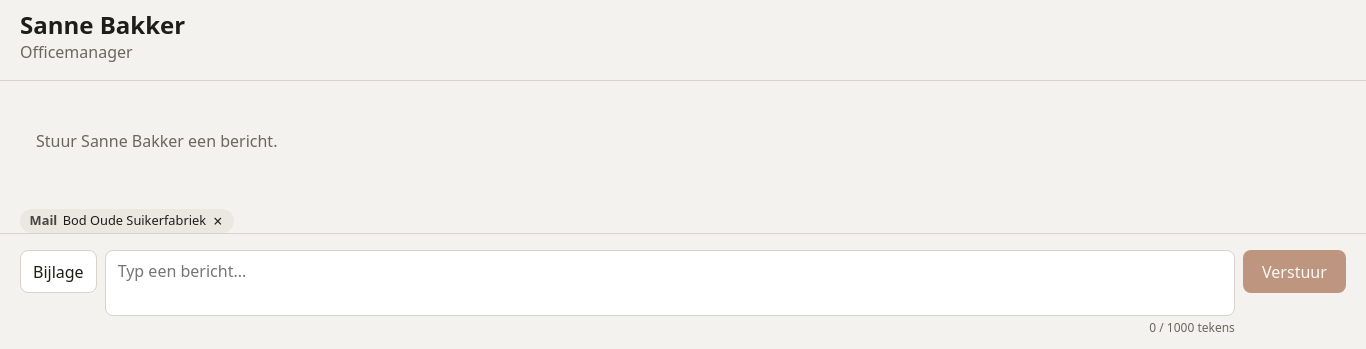
it: ChatPanel › ChatPanel_givenAttachmentAddedFromComputer_expectShownInDraftAndRemovable
This screenshot has width=1366, height=349.
Step 1. Click the button named "Verwijder bijlage Bod Oude Suikerfabriek" → click(218, 221), box [212,213,224,229]
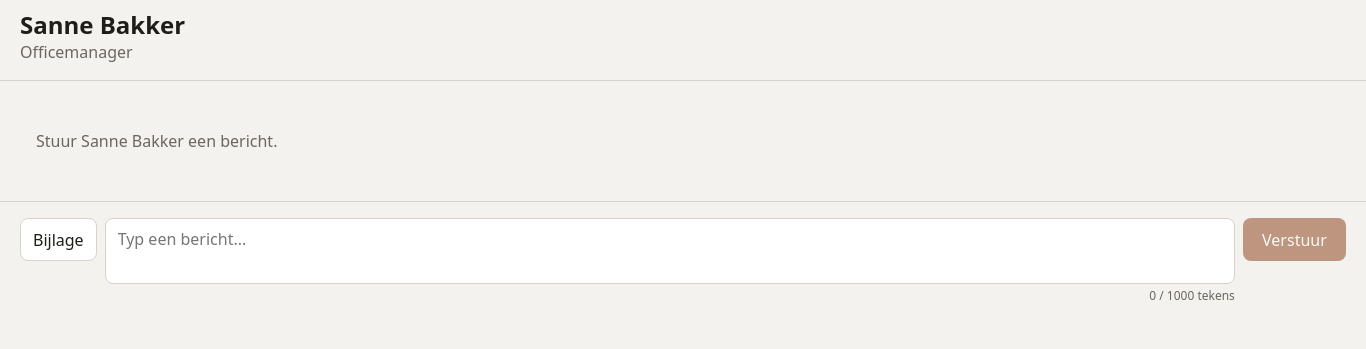
Now the list item "Bod Oude Suikerfabriek" is gone
